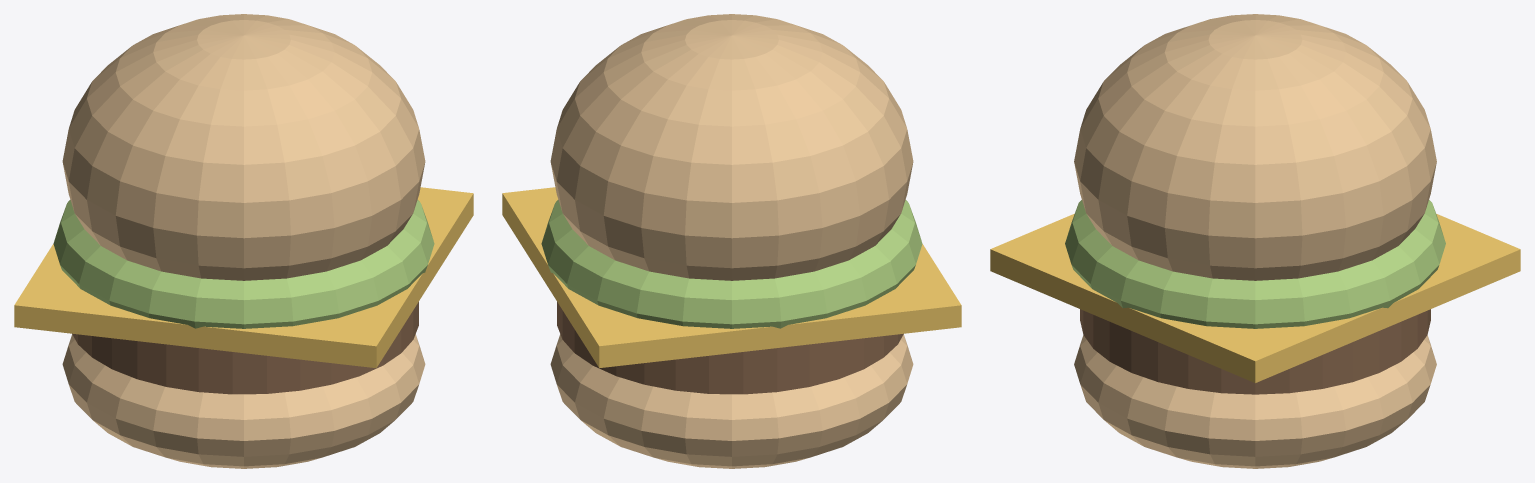
The model's file is burger.glb.
3 renders of one model, left to right at view 1: azimuth 30°, elevation 25°; view 2: azimuth 150°, elevation 25°; view 3: azimuth 270°, elevation 25°, orthographic.
Parts seen in each view (by area): view 1: Sphere.001, Sphere, Torus, Cube, Cylinder; view 2: Sphere.001, Sphere, Torus, Cube, Cylinder; view 3: Sphere.001, Sphere, Cube, Torus, Cylinder.
Part boxes in pixels (x1,y1,x2,y2): Sphere.001: (62,14,425,280); Sphere: (62,334,425,468); Torus: (53,200,434,328); Cube: (14,187,473,368); Cylinder: (72,302,418,394); Sphere.001: (550,14,913,280); Sphere: (550,334,913,468); Torus: (541,200,922,328); Cube: (502,187,961,367); Cylinder: (557,302,903,394); Sphere.001: (1074,14,1436,280); Sphere: (1074,335,1436,468); Cube: (990,213,1520,382); Torus: (1065,200,1445,328); Cylinder: (1080,309,1430,394).
Size of the model in its own units: 0.1754 by 0.146 by 0.1754.
